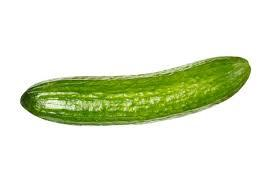non-mango: (19, 54, 251, 126)
